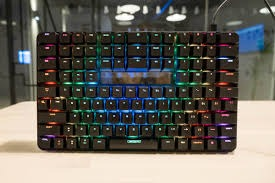keyboard: (35, 30, 237, 154)
